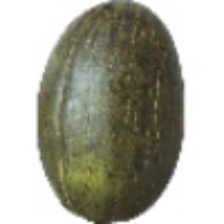honeydew: (46, 35, 222, 199)
